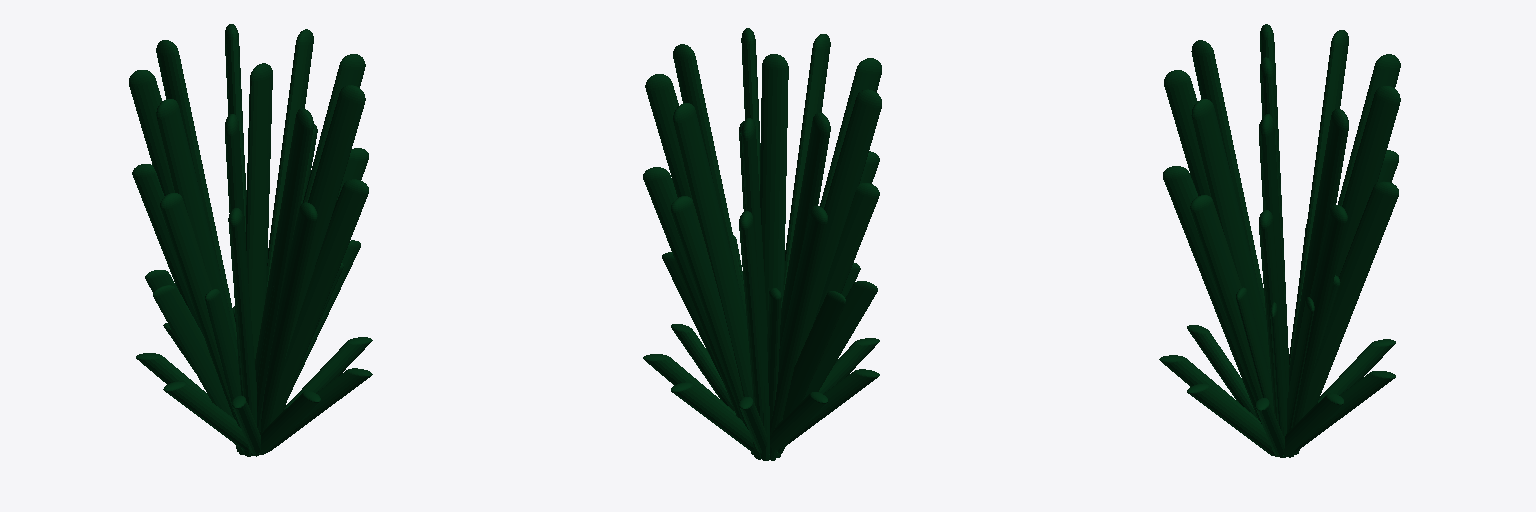
The picture shows the model from 3 angles: view 1: azimuth 30°, elevation 25°; view 2: azimuth 150°, elevation 25°; view 3: azimuth 270°, elevation 25°; orthographic projection.
Visible parts, largest first — view 1: Cylinder192, Cylinder179, Cylinder001, Cylinder002, Cylinder008, Cylinder180, Cylinder173, Cylinder006, Cylinder184, Cylinder004, Cylinder007, Cylinder172 (+14 smaller); view 2: Cylinder005, Cylinder192, Cylinder008, Cylinder176, Cylinder174, Cylinder007, Cylinder177, Cylinder003, Cylinder006, Cylinder175, Cylinder001, Cylinder185 (+14 smaller); view 3: Cylinder176, Cylinder002, Cylinder005, Cylinder179, Cylinder004, Cylinder177, Cylinder180, Cylinder009, Cylinder007, Cylinder001, Cylinder003, Cylinder178 (+13 smaller).
Boxes of the visible parts, x1=… form: Cylinder192: x1=245, y1=63, x2=272, y2=358; Cylinder179: x1=270, y1=179, x2=368, y2=423; Cylinder001: x1=254, y1=108, x2=313, y2=456; Cylinder002: x1=285, y1=85, x2=365, y2=358; Cylinder008: x1=156, y1=99, x2=244, y2=454; Cylinder180: x1=259, y1=202, x2=317, y2=454; Cylinder173: x1=160, y1=193, x2=235, y2=419; Cylinder006: x1=156, y1=40, x2=236, y2=339; Cylinder184: x1=153, y1=285, x2=243, y2=453; Cylinder004: x1=267, y1=29, x2=313, y2=286; Cylinder007: x1=129, y1=70, x2=238, y2=451; Cylinder172: x1=228, y1=208, x2=256, y2=455; Cylinder005: x1=673, y1=103, x2=760, y2=459; Cylinder192: x1=760, y1=54, x2=788, y2=326; Cylinder008: x1=777, y1=89, x2=881, y2=457; Cylinder176: x1=671, y1=196, x2=755, y2=457; Cylinder174: x1=770, y1=206, x2=827, y2=435; Cylinder007: x1=769, y1=113, x2=830, y2=460; Cylinder177: x1=643, y1=167, x2=752, y2=454; Cylinder003: x1=673, y1=44, x2=777, y2=452; Cylinder006: x1=741, y1=118, x2=769, y2=460; Cylinder175: x1=739, y1=211, x2=763, y2=458; Cylinder001: x1=784, y1=34, x2=830, y2=289; Cylinder185: x1=778, y1=291, x2=845, y2=452; Cylinder176: x1=1294, y1=181, x2=1398, y2=454; Cylinder002: x1=1191, y1=99, x2=1270, y2=375; Cylinder005: x1=1298, y1=86, x2=1400, y2=453; Cylinder179: x1=1190, y1=195, x2=1275, y2=456; Cylinder004: x1=1289, y1=109, x2=1348, y2=456; Cylinder177: x1=1289, y1=205, x2=1347, y2=457; Cylinder180: x1=1163, y1=166, x2=1261, y2=423; Cylinder009: x1=1191, y1=40, x2=1265, y2=314; Cylinder007: x1=1289, y1=30, x2=1348, y2=366; Cylinder001: x1=1164, y1=70, x2=1211, y2=197; Cylinder003: x1=1260, y1=114, x2=1288, y2=397; Cylinder178: x1=1259, y1=210, x2=1286, y2=457.
Size of the model in its own units: 17.65 by 31.22 by 17.34.
1 materials, 1 textured.